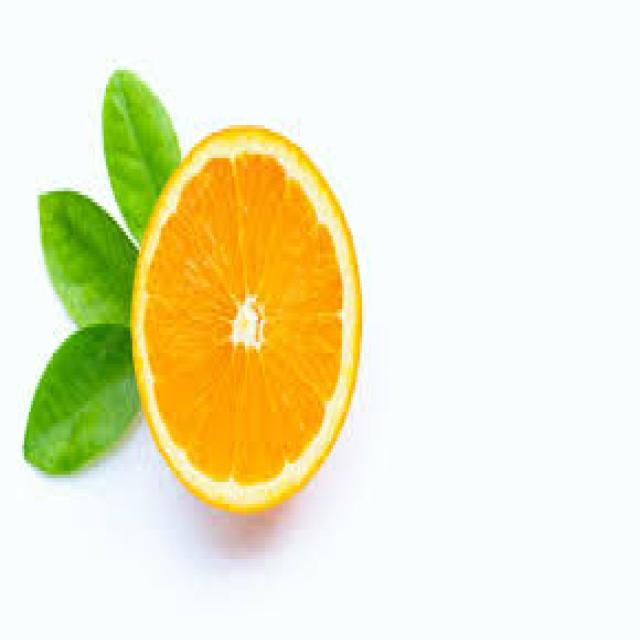orange: (131, 97, 371, 536)
